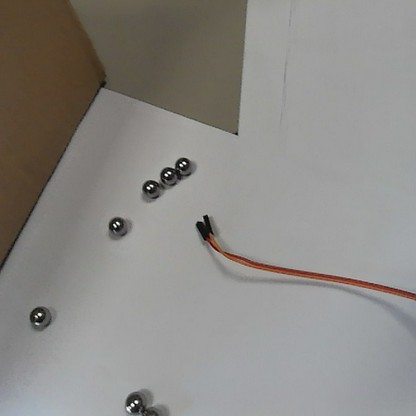ironball: (23, 302, 52, 330), (140, 176, 163, 204), (158, 165, 182, 189), (123, 390, 146, 412), (108, 215, 129, 239), (171, 154, 194, 174)
